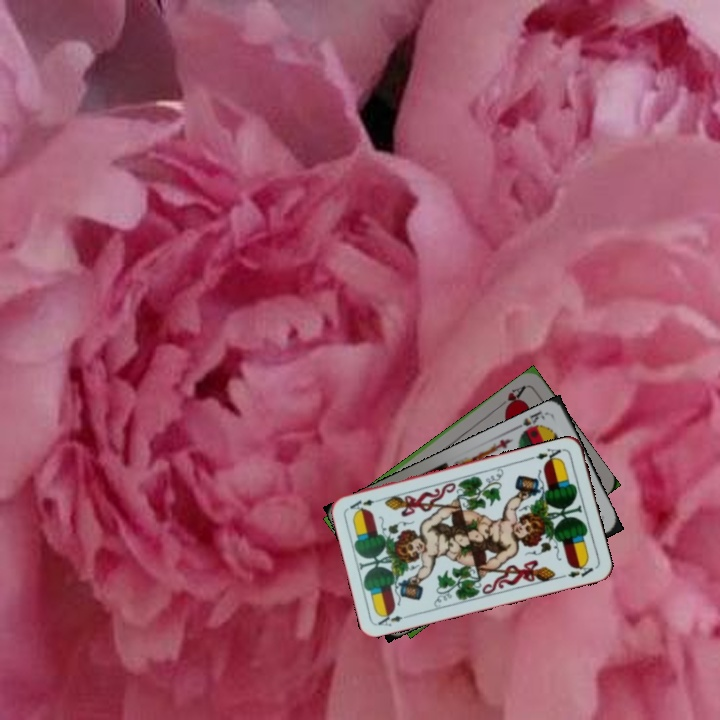EA: (527, 444, 567, 466), (374, 608, 414, 629)
HA: (495, 381, 529, 413)
SK: (511, 408, 548, 439)
